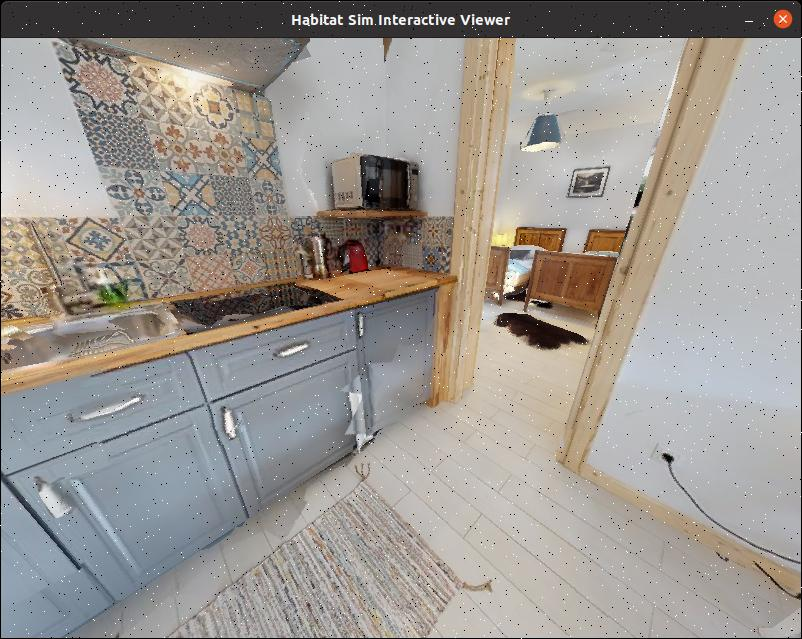door-frame: (433, 37, 732, 472)
